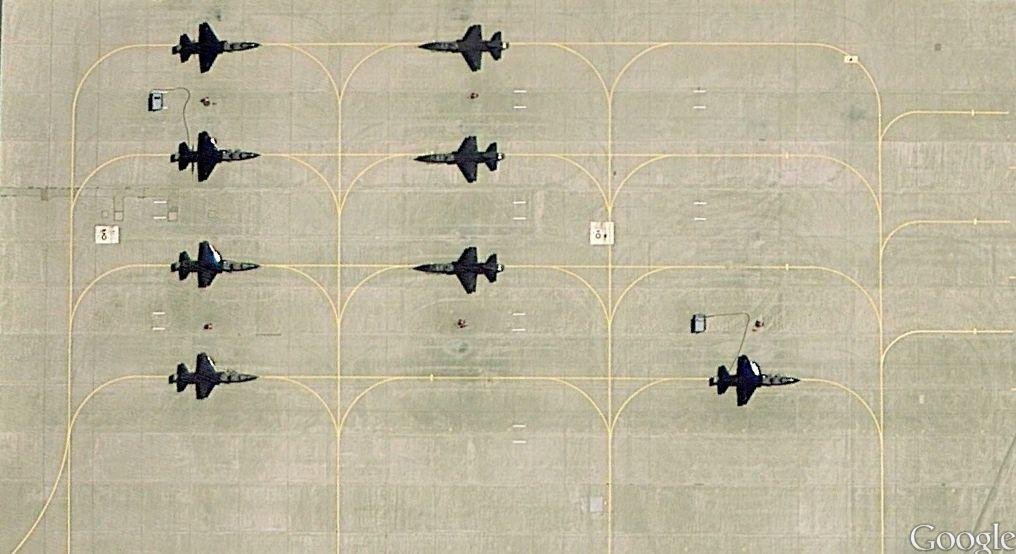plane: (171, 20, 268, 77), (414, 129, 506, 186), (169, 130, 267, 183), (169, 240, 264, 294), (709, 352, 805, 404), (162, 355, 263, 399), (417, 24, 513, 70), (416, 247, 506, 292)
